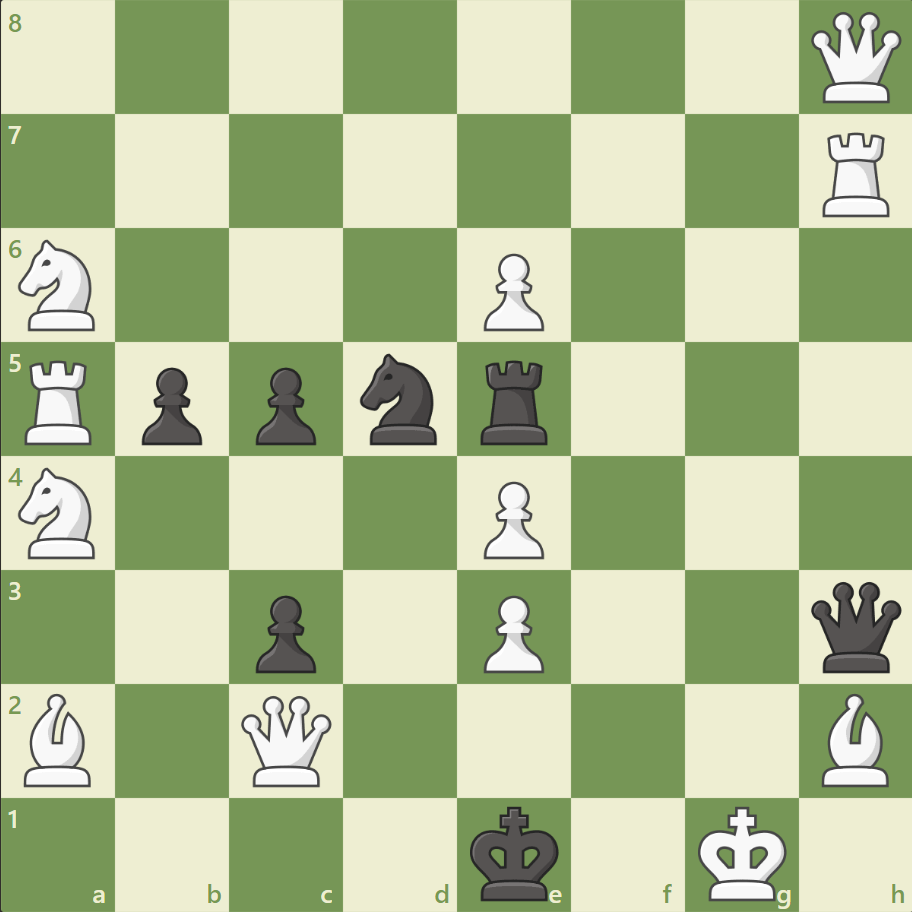B: (17, 687, 101, 790), (812, 687, 896, 790)
K: (692, 798, 792, 906)
N: (11, 234, 108, 337), (11, 461, 108, 564)
P: (474, 246, 549, 337), (474, 473, 549, 564), (474, 586, 549, 677)
Q: (805, 9, 904, 108), (237, 690, 336, 789)
R: (814, 125, 897, 222), (19, 352, 102, 449)
k: (465, 798, 565, 906)
n: (351, 348, 449, 450)
p: (133, 359, 208, 450), (247, 359, 322, 450), (247, 586, 322, 677)
q: (805, 576, 904, 676)
r: (473, 352, 556, 449)
